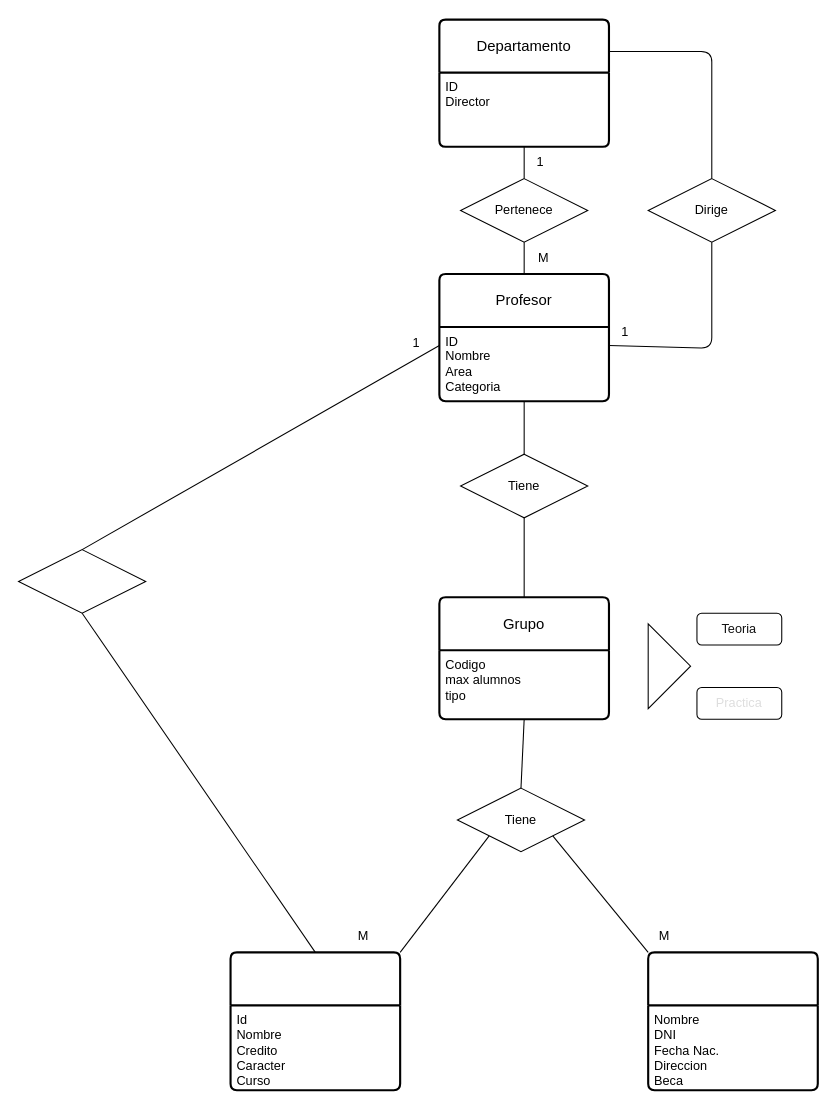
Image size: 837x1109. Some labels were removed from this diagram. The shapes that lost their labels are listed below. From the top down, each one's box as (x1, y1, x2, y2) in pixels, then its label:
(17, 549, 146, 613): Imparte
(647, 623, 691, 709): Es un
(229, 951, 401, 1091): Asignatura
(647, 951, 818, 1091): Alumno
